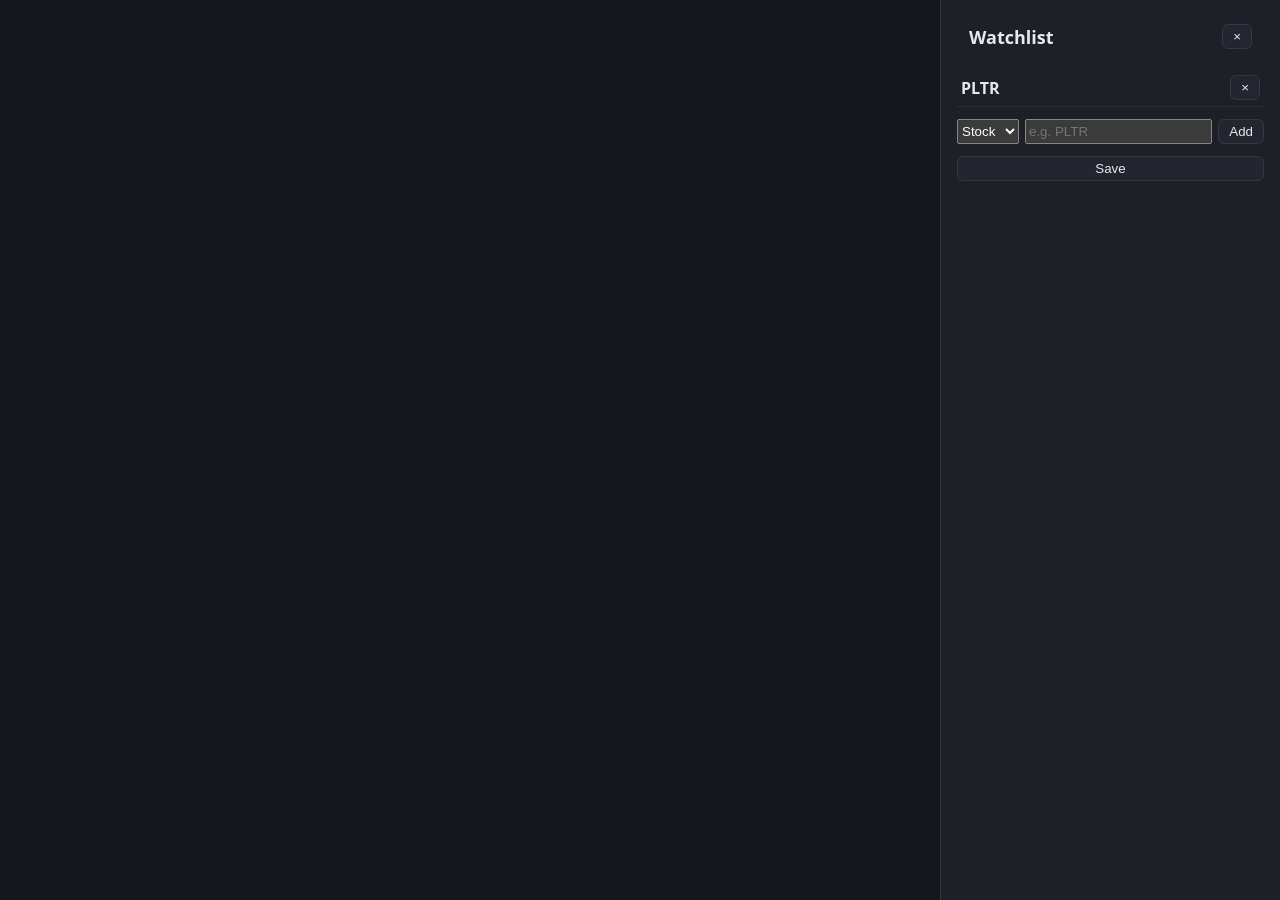
flags rejected items and keeps the list when the API returns 400
The width and height of the screenshot is (1280, 900).
Expected: the text "PLTR" is shown, 961,76 -> 1000,98
Select "Stock" in the dropdown named "Type" at [988, 132], box 957,119 -> 1019,144
Type "zzzz" into the field named "Ticker".
click(1119, 132); type("zzzz")  # box 1025,119 -> 1212,144
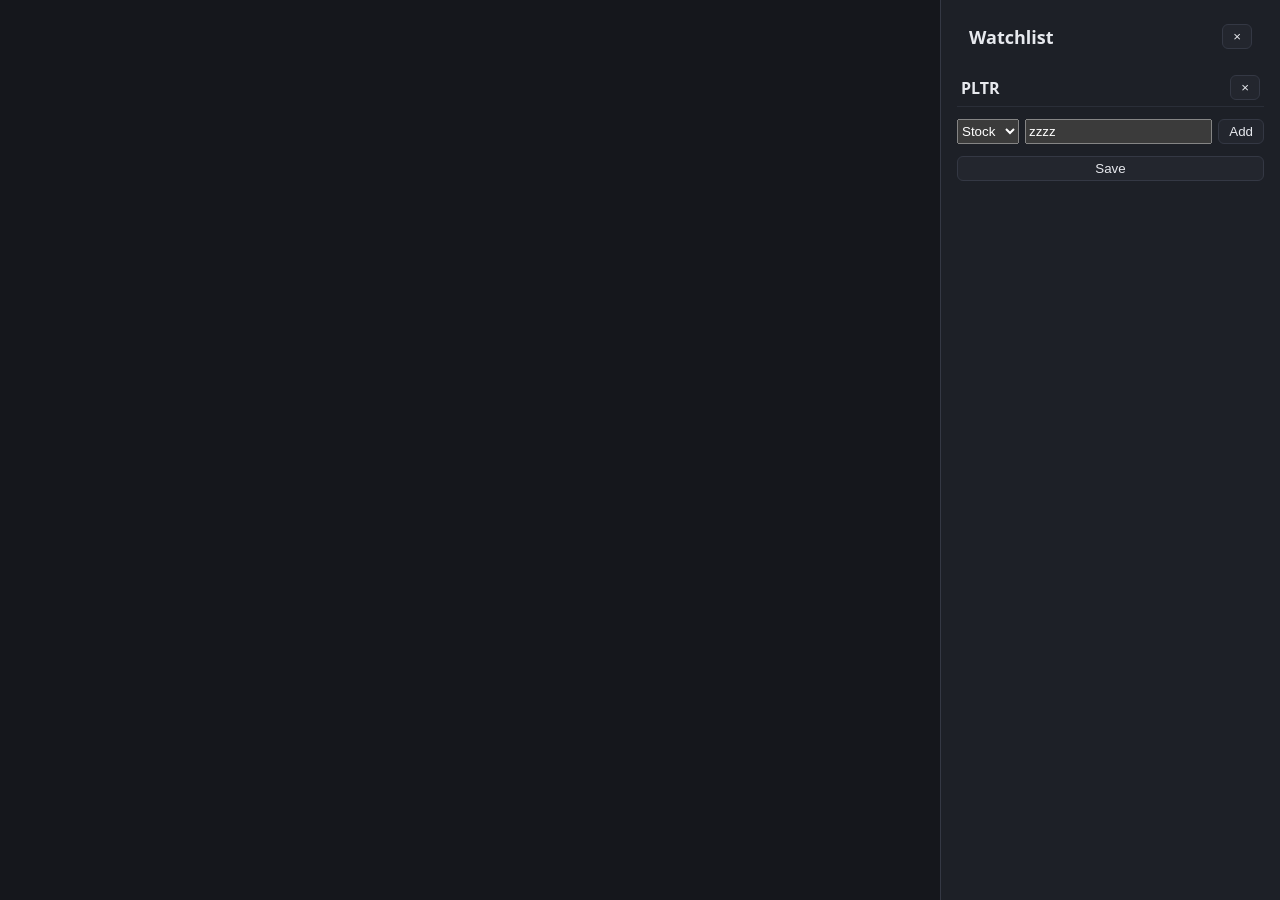
Click the button "Add".
click(1241, 132)  # box 1218,119 -> 1264,144
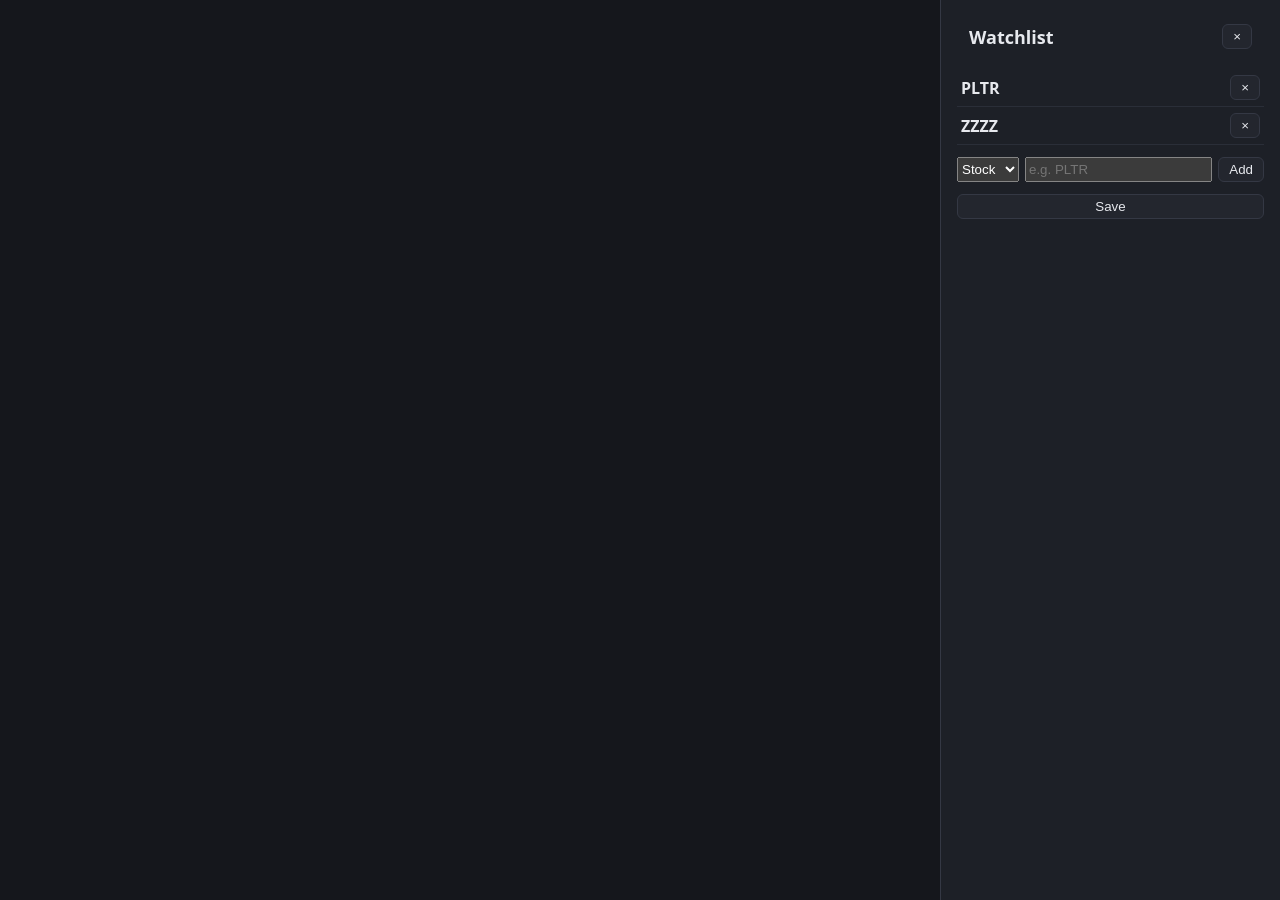
Click the button "Save".
click(1110, 206)  # box 957,194 -> 1264,219
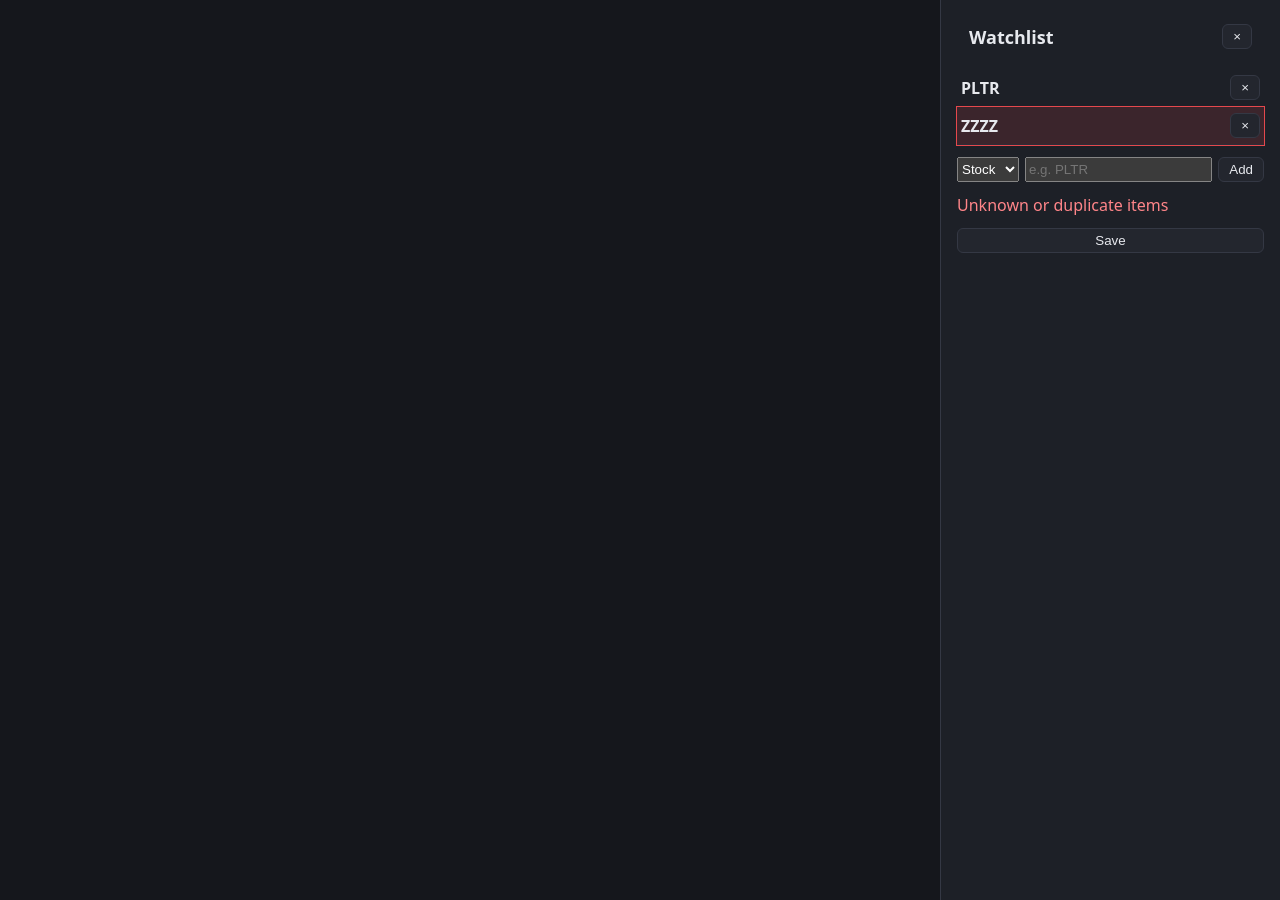
Result: the text "Unknown or duplicate items" is shown at 957,194 -> 1168,216
